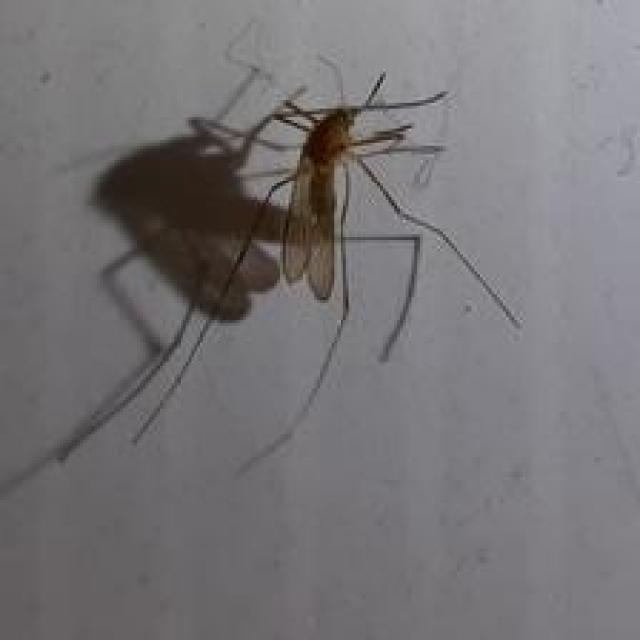Culex: (0, 20, 523, 503)
